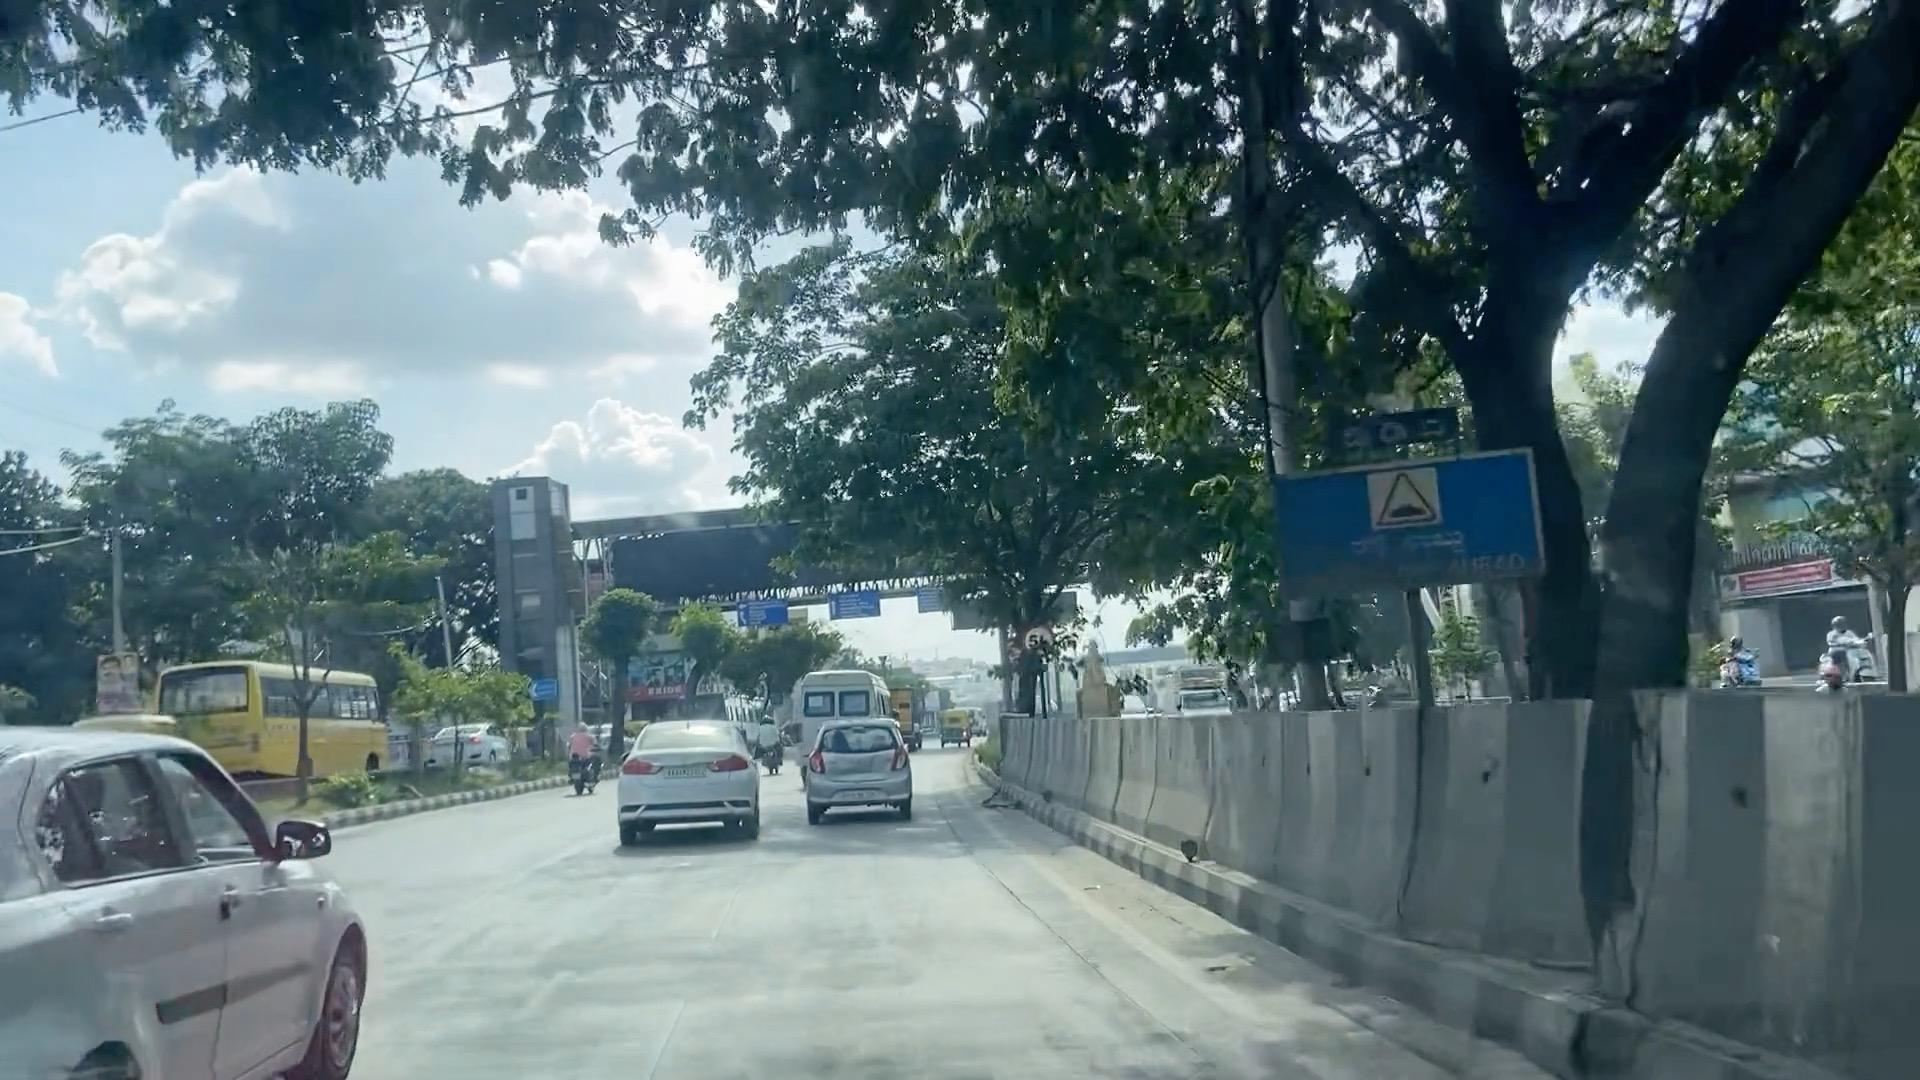LMV: (622, 725, 757, 835), (812, 731, 930, 825)
